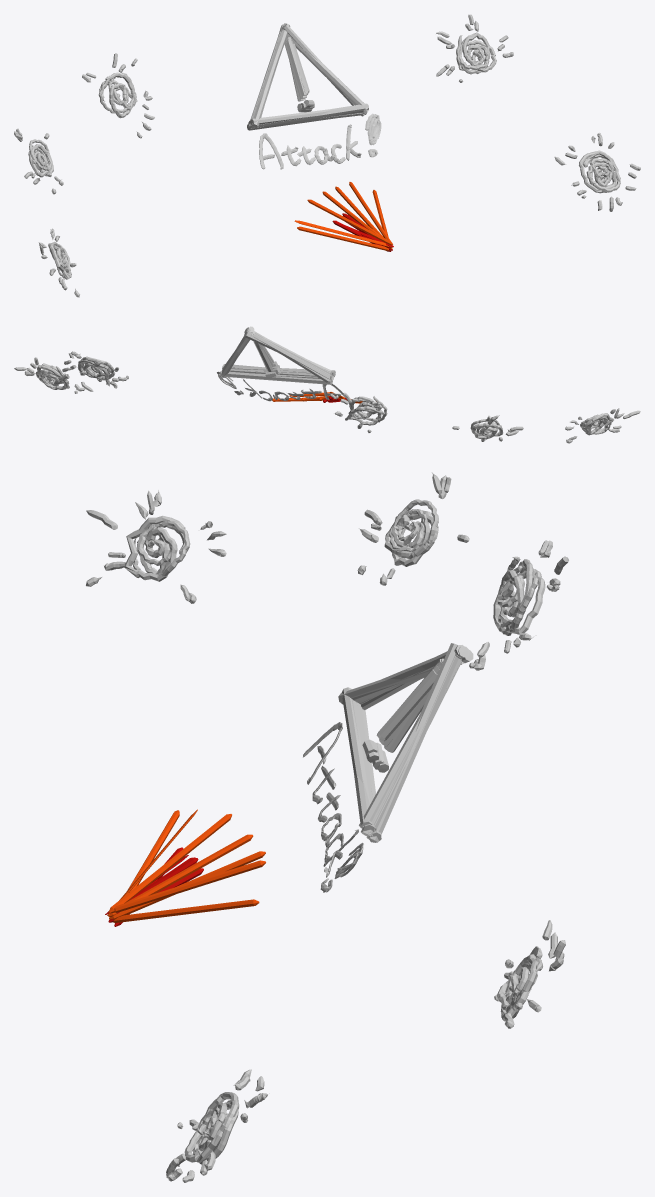
File: ControlAnim.fbx
The picture shows the model from 3 angles, top to bottom: view 1: azimuth 30°, elevation 25°; view 2: azimuth 150°, elevation 25°; view 3: azimuth 270°, elevation 25°; orthographic projection. The views are drawn at different scales.
Visible parts, largest first — view 1: 001circle, slider, anim001; view 2: 001circle, slider, anim001; view 3: 001circle, slider, anim001.
Boxes of the visible parts, x1=… form: 001circle: x1=14, y1=14, x2=640, y2=297; slider: x1=247, y1=23, x2=368, y2=130; anim001: x1=294, y1=182, x2=393, y2=251; 001circle: x1=14, y1=351, x2=640, y2=443; slider: x1=220, y1=326, x2=335, y2=384; anim001: x1=272, y1=392, x2=362, y2=403; 001circle: x1=86, y1=472, x2=568, y2=1182; slider: x1=338, y1=643, x2=473, y2=842; anim001: x1=105, y1=809, x2=265, y2=926.
Size of the model in its own units: 0.907 by 0.26 by 0.3476.
